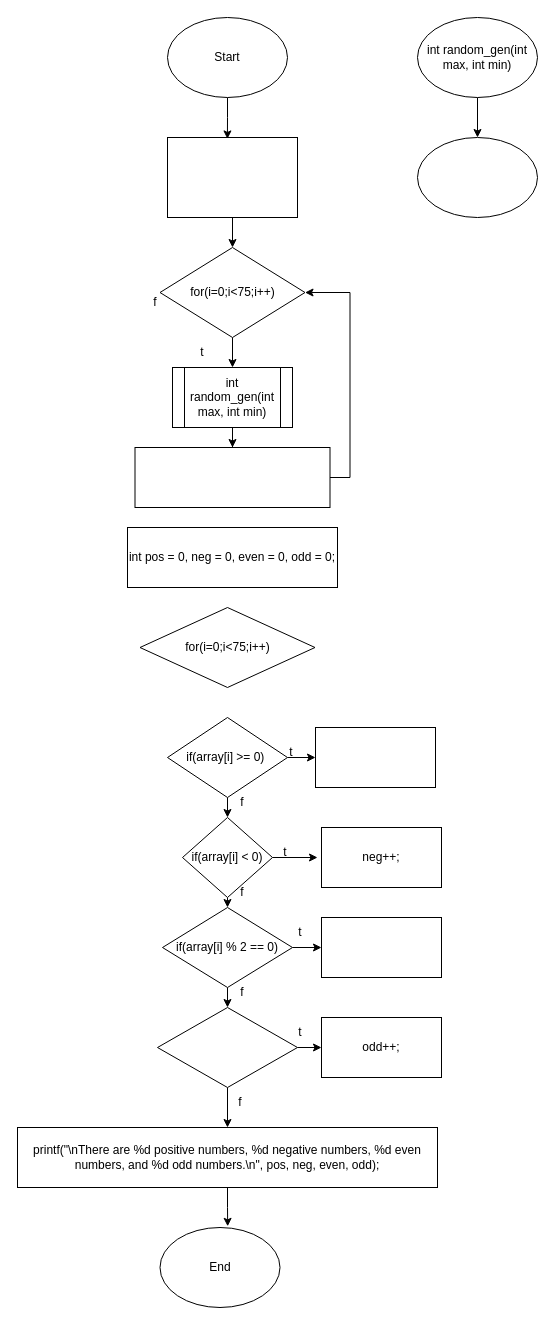
This 555x1325 diagram has some shape labels left out. The shapes that lost their labels are listed below. From the top down, each one's centre as x and y in pixels, then its label:
[232,177]: srand (time(NULL)); int array[75]; int i;
[477,177]: return rand()%(max - min-30)
[232,477]: int numb = random_gen(60,0); array[i]=numb; printf("%d ",array[i]);
[375,757]: pos++;
[381,947]: even++;
[227,1047]: if(array[i] % 2 != 0)
